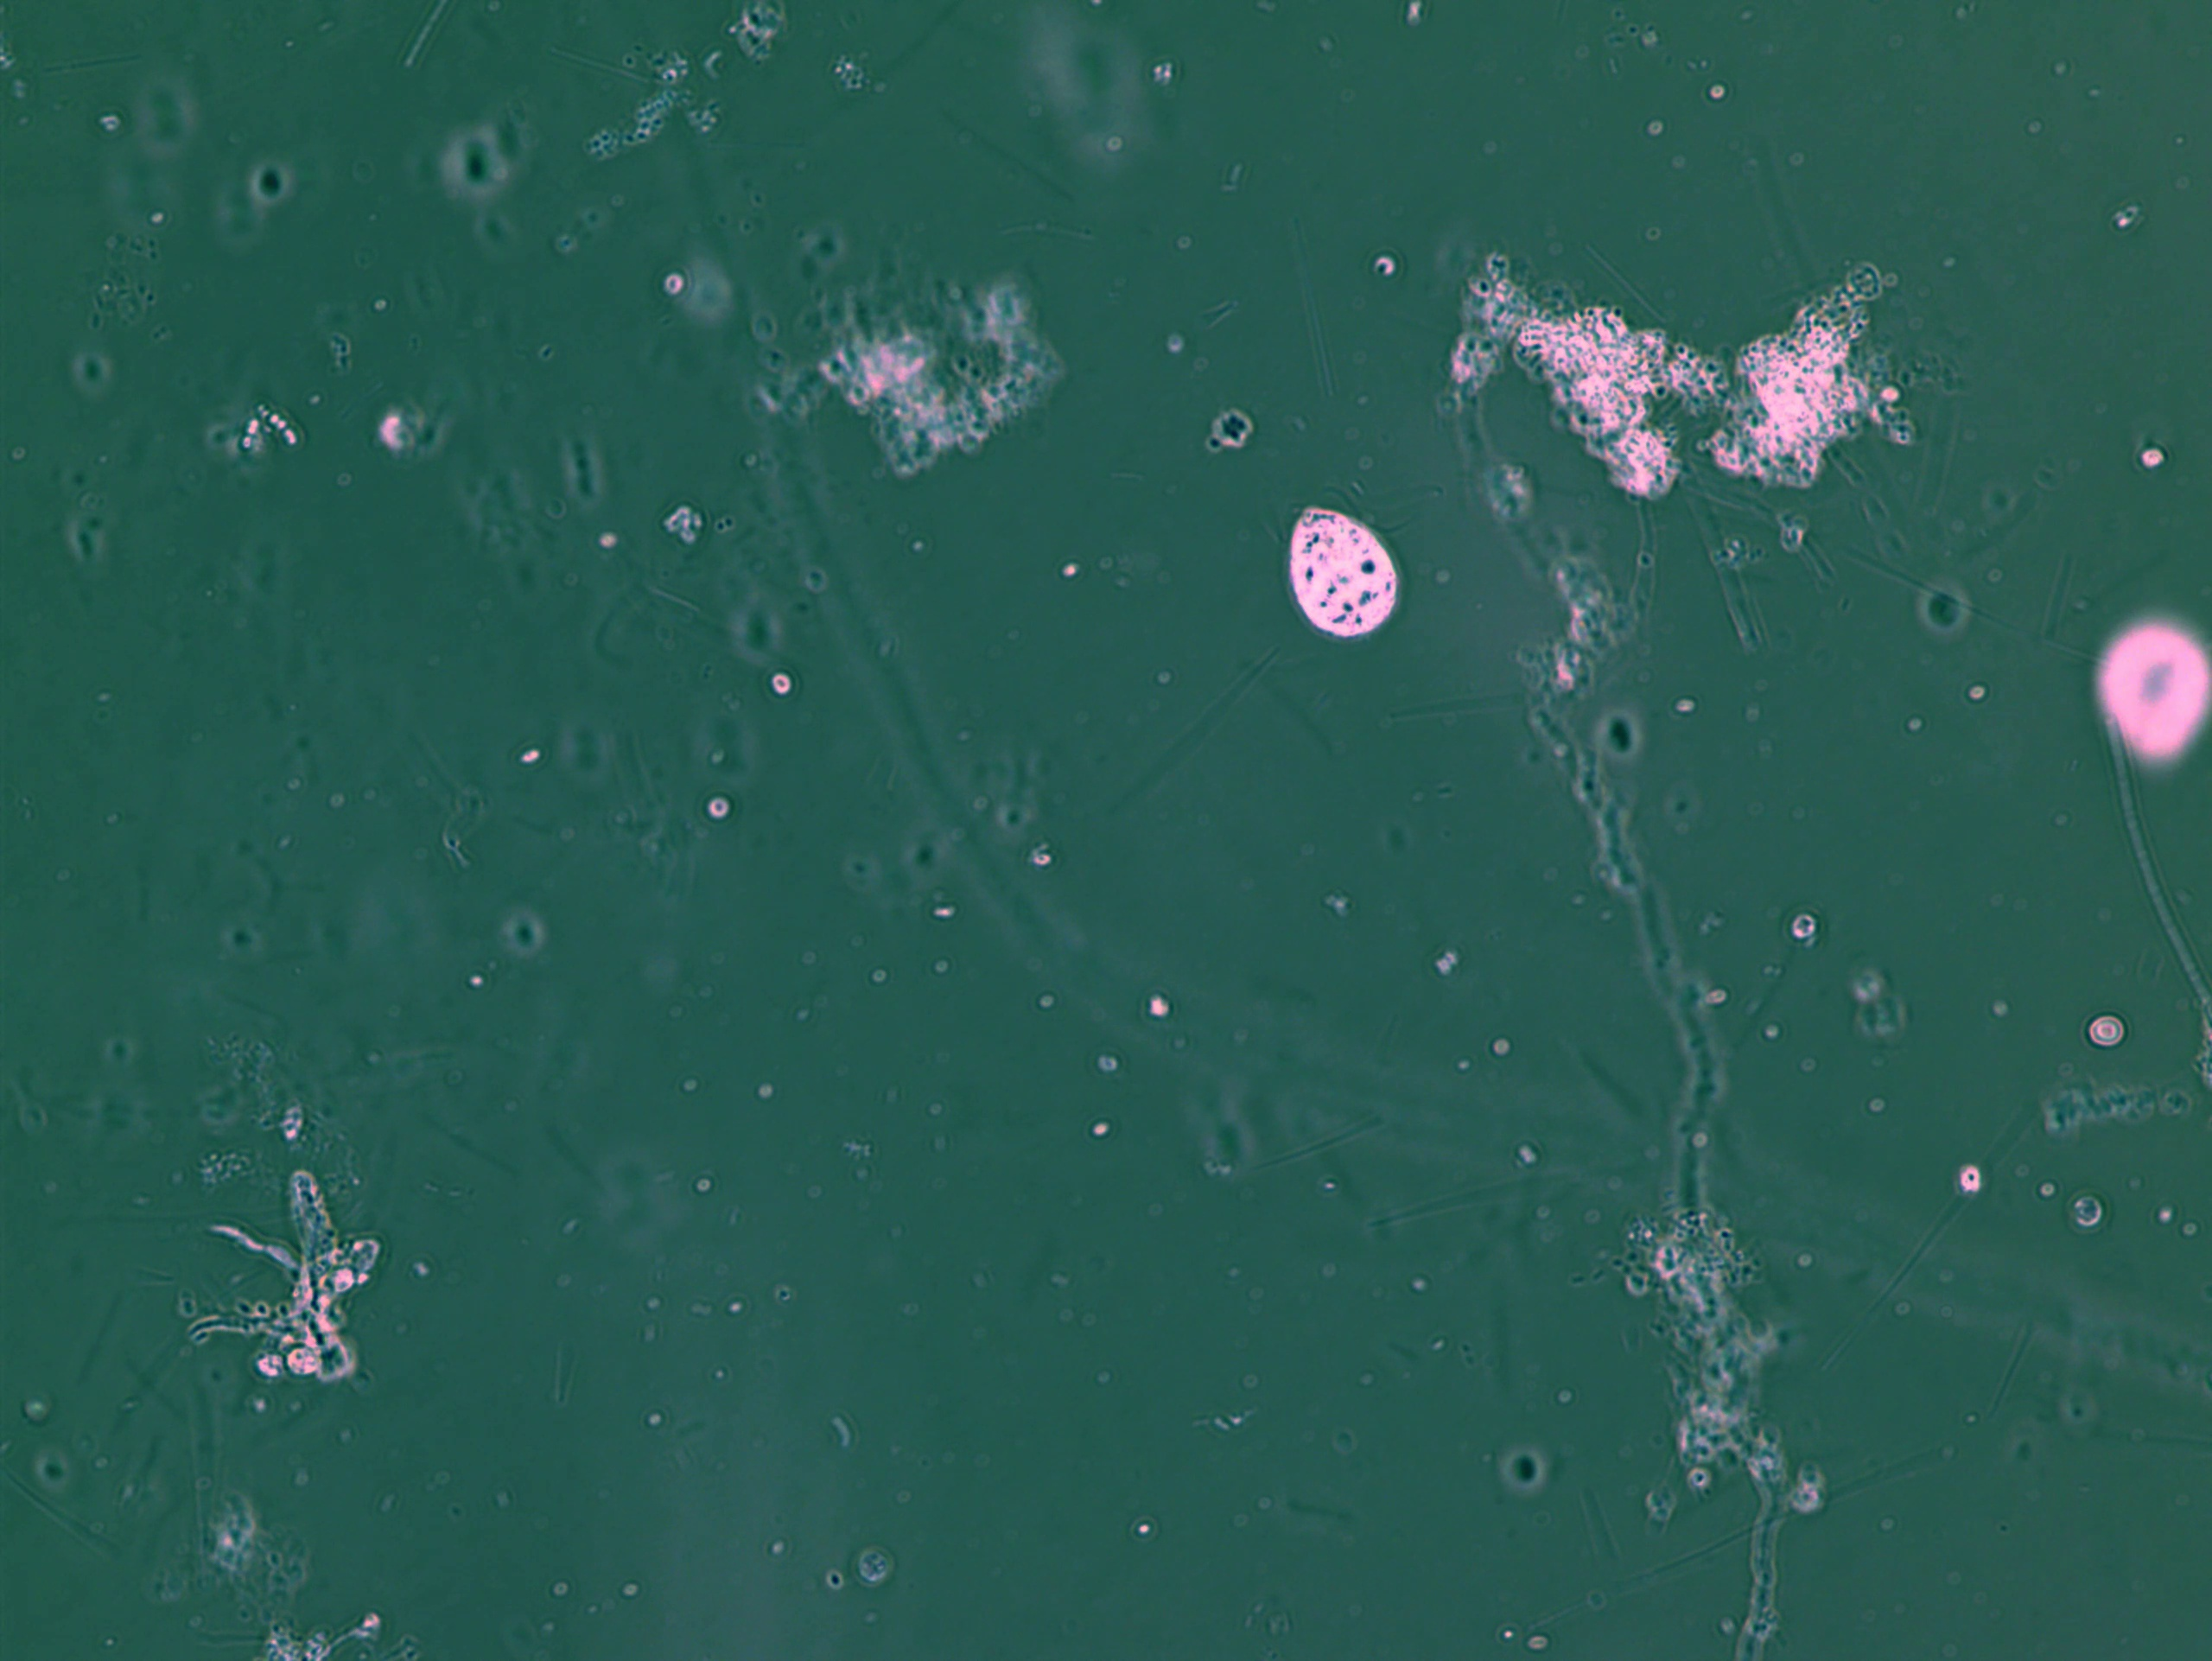depth:0: (1256, 473, 1418, 658)
